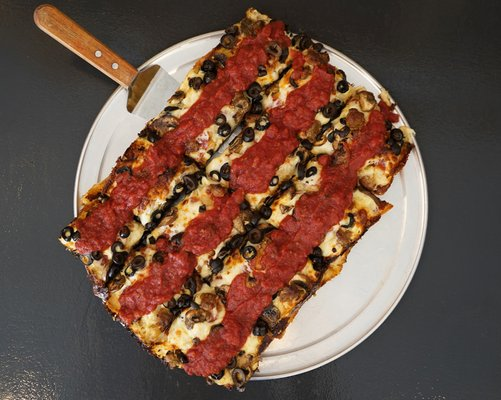curry: (9, 1, 499, 388)
sandwich: (56, 7, 412, 389)
